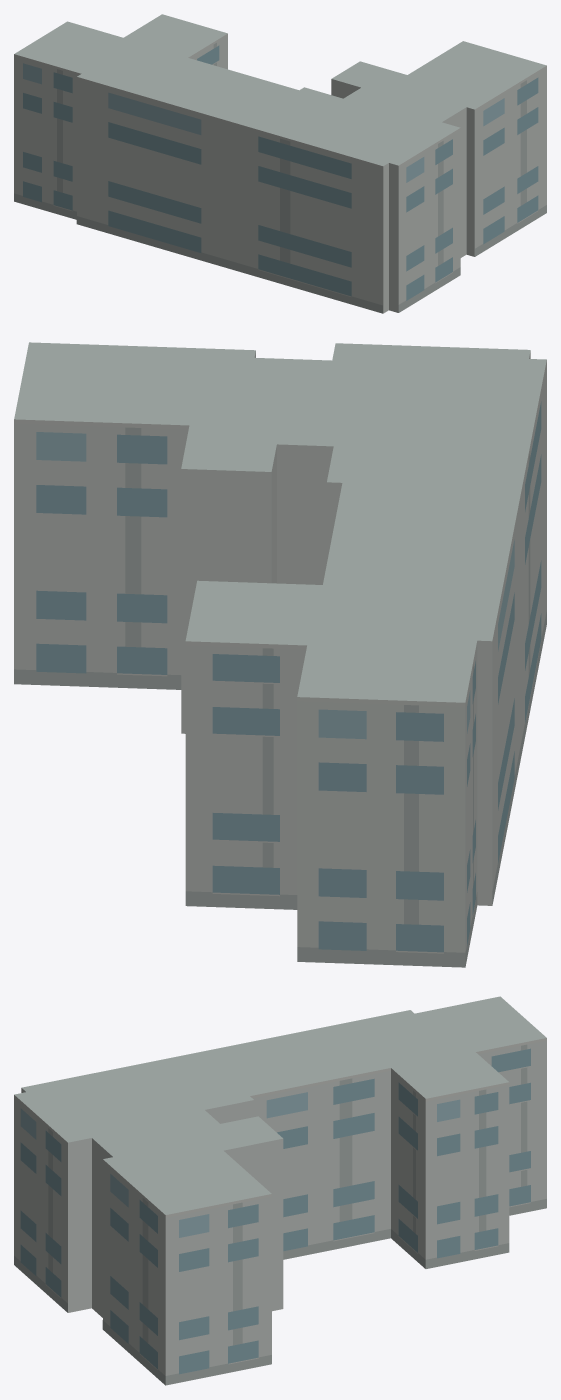
The model's file is residential-f4277a70-2677-41f6-bb57-35a28edeb8af.glb.
3 views of the same model, one above another, from view 1: azimuth 30°, elevation 25°; view 2: azimuth 150°, elevation 25°; view 3: azimuth 270°, elevation 25° (orthographic). The views are drawn at different scales.
Visible parts, largest first — view 1: residential-f4277a70-2677-41f6-bb57-35a28edeb8af.tmp; view 2: residential-f4277a70-2677-41f6-bb57-35a28edeb8af.tmp; view 3: residential-f4277a70-2677-41f6-bb57-35a28edeb8af.tmp.
Part boxes in pixels (<box>): residential-f4277a70-2677-41f6-bb57-35a28edeb8af.tmp: <box>14,14,546,313</box>; residential-f4277a70-2677-41f6-bb57-35a28edeb8af.tmp: <box>14,342,546,967</box>; residential-f4277a70-2677-41f6-bb57-35a28edeb8af.tmp: <box>14,996,546,1385</box>.
Bounding box in the file's own units: 42 × 15.25 × 43.24.
